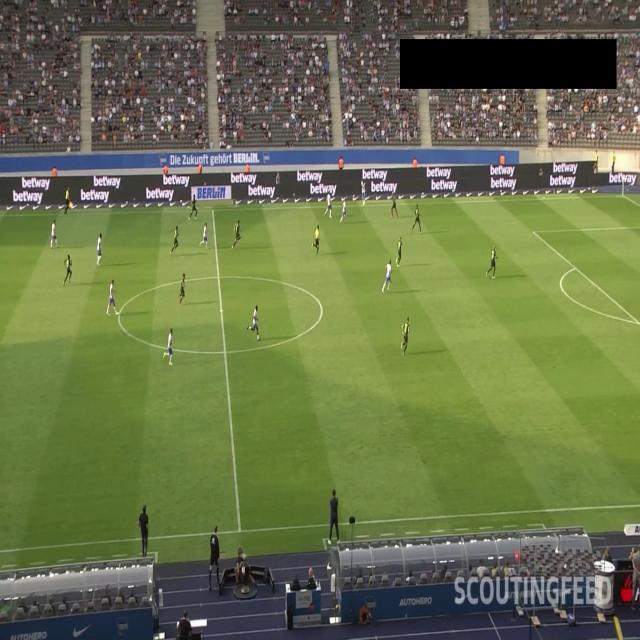ball: (360, 174, 366, 186)
player: (164, 326, 176, 368), (248, 305, 261, 341), (108, 278, 119, 318), (383, 257, 395, 293), (171, 221, 182, 257), (486, 245, 496, 279), (233, 213, 243, 247), (179, 269, 188, 306), (401, 313, 409, 353), (64, 251, 73, 286), (50, 213, 59, 248), (95, 231, 103, 270), (200, 220, 210, 250), (413, 198, 421, 235), (190, 193, 198, 220), (398, 236, 404, 264), (360, 180, 366, 206), (340, 198, 346, 224), (326, 191, 332, 217), (391, 194, 396, 220)
